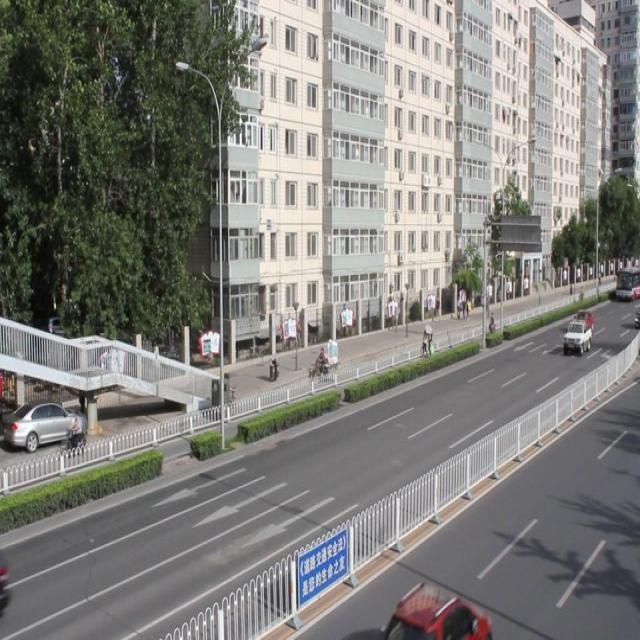car: (383, 579, 489, 640)
